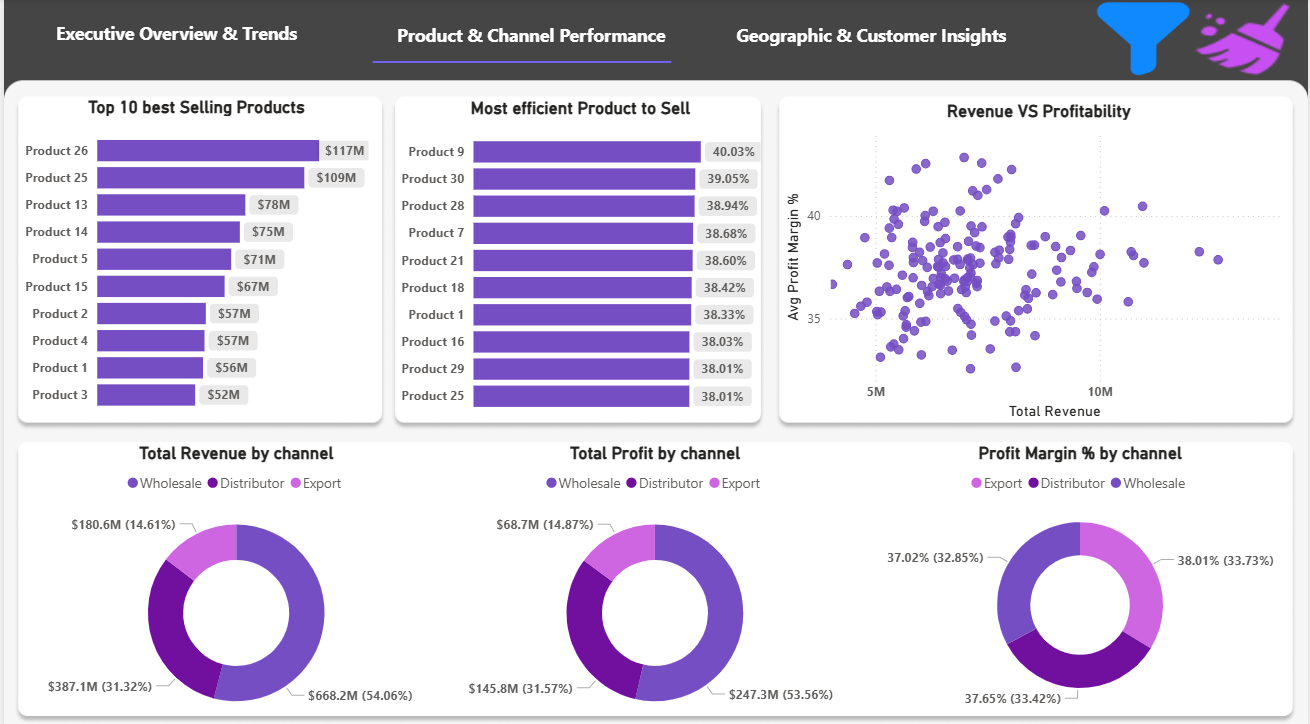

What the dashboard file says about the page in this screenshot:
{"tool":"powerbi","page":{"name":"Product & Channel Performance","canvas":[1280,720],"ordinal":1},"visuals":[{"type":"actionButton","title":"Executive Overview & Trends","box":[31.9,8.6,274.8,50.3],"z":0},{"type":"actionButton","title":"Executive Overview & Trends","box":[363.6,8.2,308.7,52.1],"z":1000},{"type":"actionButton","title":"Executive Overview & Trends","box":[713.6,9.6,274.4,50.8],"z":2000},{"type":"clusteredBarChart","title":"Top 10 best Selling Products","fields":{"Category":["Sales_data.product_name"],"Y":["Measures__.Total Revenue"]},"box":[15.1,96.1,348.5,319.7],"z":3000},{"type":"clusteredBarChart","title":"Most efficient Product to Sell","fields":{"Category":["Sales_data.product_name"],"Y":["Measures__.Profit Margin %"]},"box":[384.2,97.4,363.6,319.7],"z":4000},{"type":"scatterChart","title":"Revenue VS Profitability","fields":{"X":["Customer Summary.Total Revenue"],"Y":["Customer Summary.Avg Profit Margin %"]},"box":[762.4,98.8,507.8,318.6],"z":5000},{"type":"donutChart","fields":{"Y":["Measures__.Total Revenue"],"Category":["Sales_data.channel"]},"box":[15.1,435,426.8,285.4],"z":6000},{"type":"donutChart","fields":{"Category":["Sales_data.channel"],"Y":["Measures__.Profit Margin %"]},"box":[842.9,435.6,427,269.9],"z":7000},{"type":"donutChart","fields":{"Category":["Sales_data.channel"],"Y":["Measures__.Total Profit"]},"box":[425.4,435,426.8,285.4],"z":8000},{"type":"actionButton","box":[1068.7,0,99.4,77.3],"z":9000},{"type":"actionButton","box":[1166.9,0,103.1,77.3],"z":10000}]}

Visuals, with their boxes in screenshot pixels (x1, y1, x2, y2), scaled from the page's 1280x720 canvas onto the 1310x724 screenshot:
"Executive Overview & Trends" actionButton: 33/9/314/59
"Executive Overview & Trends" actionButton: 372/8/688/61
"Executive Overview & Trends" actionButton: 730/10/1011/61
"Top 10 best Selling Products" clusteredBarChart: 15/97/372/418
"Most efficient Product to Sell" clusteredBarChart: 393/98/765/419
"Revenue VS Profitability" scatterChart: 780/99/1300/420
donutChart - Measures__.Total Revenue x Sales_data.channel: 15/437/452/723
donutChart - Sales_data.channel x Measures__.Profit Margin %: 863/438/1300/709
donutChart - Sales_data.channel x Measures__.Total Profit: 435/437/872/723
actionButton: 1094/0/1195/78
actionButton: 1194/0/1300/78
